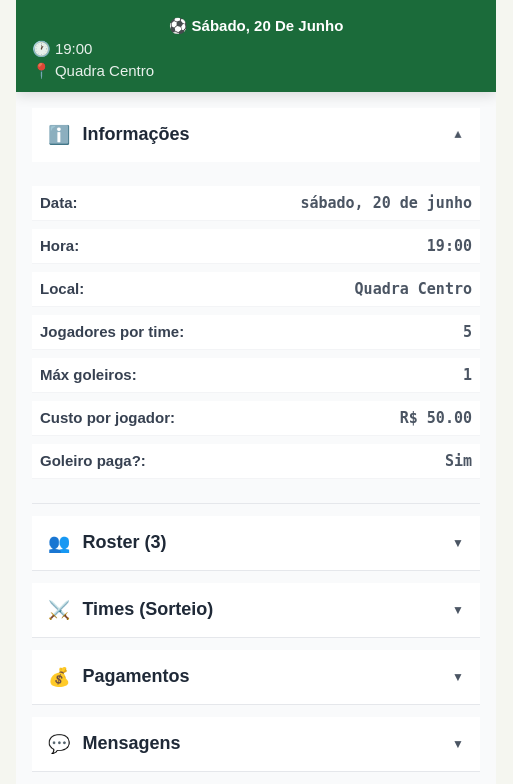
Test: PeladaScreen › Payments tab goalkeeper_pays filter › shows goalkeeper in payments when goalkeeper_pays is true
The width and height of the screenshot is (513, 784).
Step 1. Click the button "💰 Pagamentos ▼" → (136, 676), box x1=32 y1=650 x2=480 y2=704
(page scrolled)
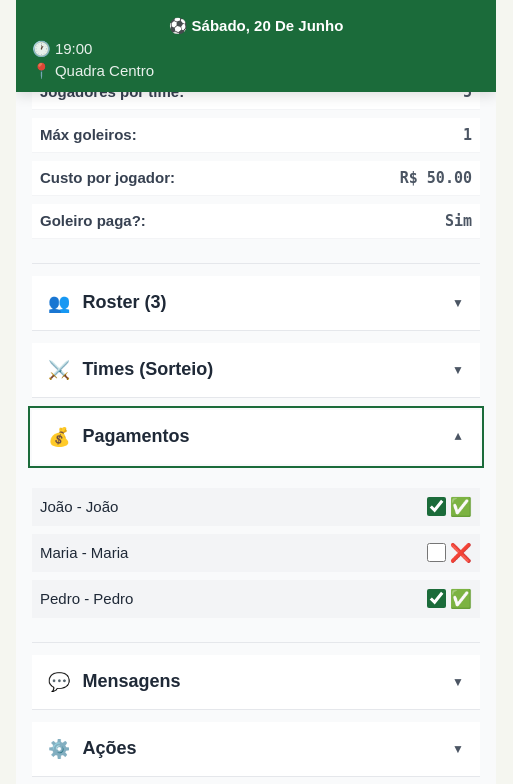
Now the checkbox named "Marcar Maria como pago" is shown, box x1=427 y1=543 x2=446 y2=562
Now the checkbox named "Marcar João como pago" is shown, box x1=427 y1=497 x2=446 y2=516
Now the checkbox named "Marcar Pedro como pago" is shown, box x1=427 y1=589 x2=446 y2=608
